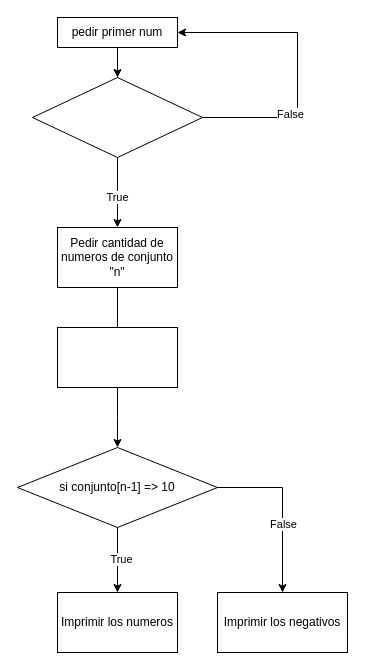
This 365x670 diagram has some shape labels left out. Each missing label, with the centre of its shape:
"if num > 30" belongs at [117,117].
"pedir conjunto de numeros n" belongs at [117,357].
